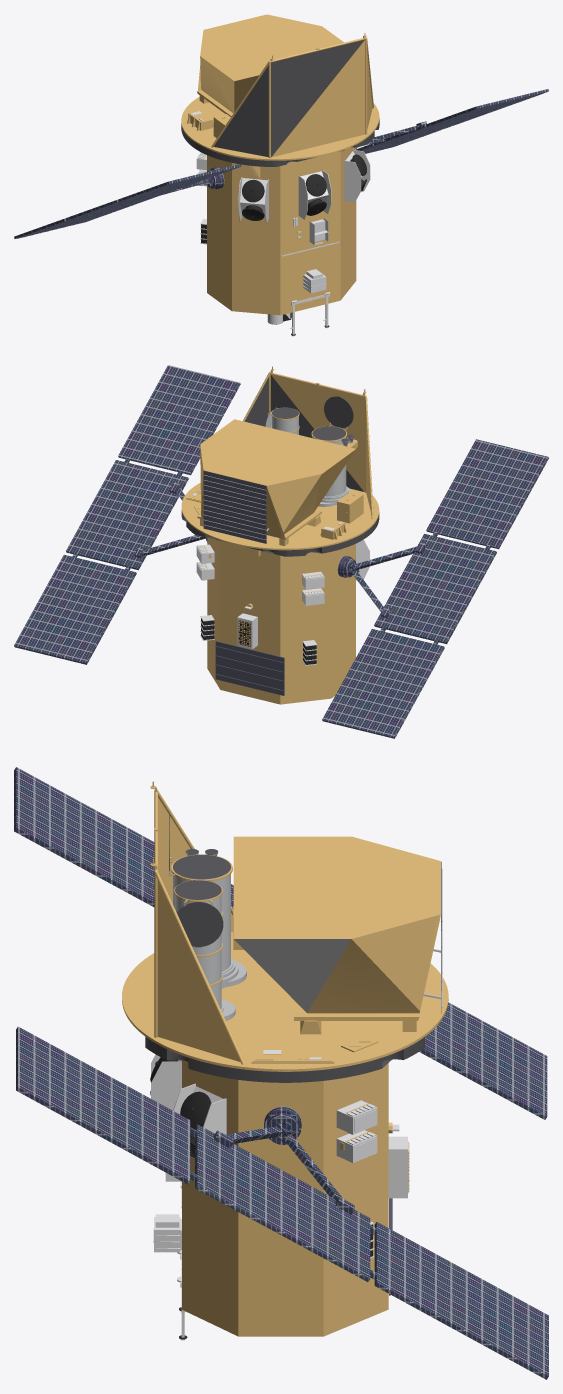
The model's file is swift.glb.
3 renders of one model, top to bottom at view 1: azimuth 30°, elevation 25°; view 2: azimuth 150°, elevation 25°; view 3: azimuth 270°, elevation 25°, orthographic. The views are drawn at different scales.
Visible parts, largest first — view 1: Fake; view 2: Fake; view 3: Fake.
Boxes of the visible parts, <box> form: Fake: <box>14,14,548,336</box>; Fake: <box>14,365,548,738</box>; Fake: <box>14,767,548,1379</box>.
Size of the model in its own units: 7.65 by 5.64 by 5.41.
Materials: 9 (1 with a texture image).
